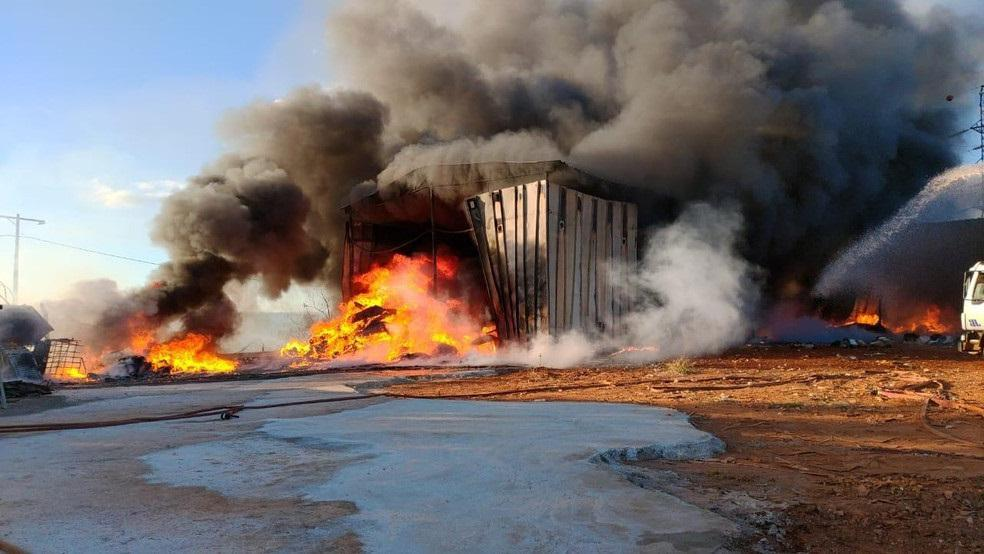Fire: (280, 243, 493, 358), (130, 314, 241, 374), (857, 298, 958, 336), (605, 336, 665, 359), (65, 356, 91, 382)
